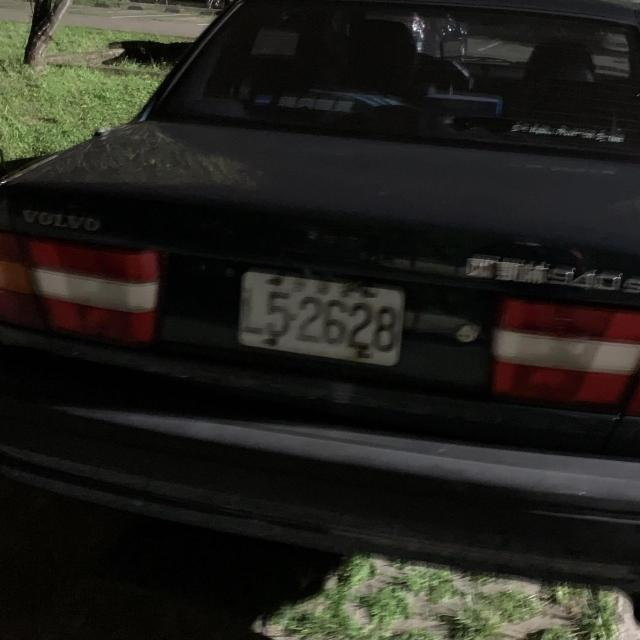W: (235, 263, 407, 372)
